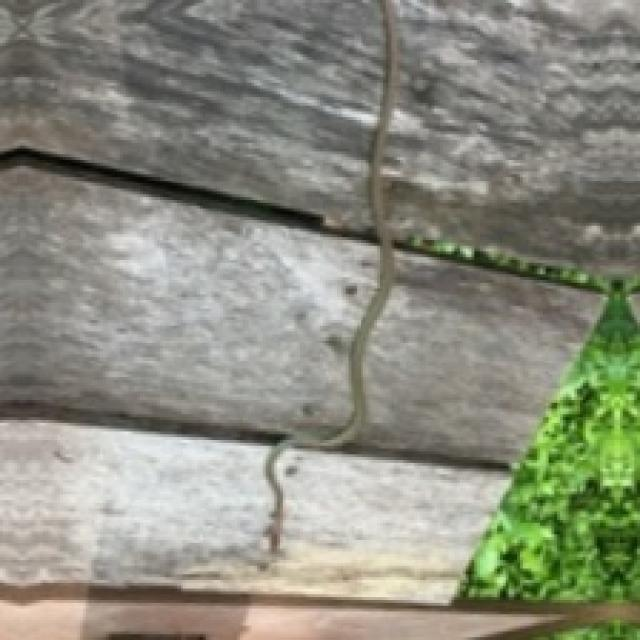paradise tree snake: (266, 0, 394, 551)
